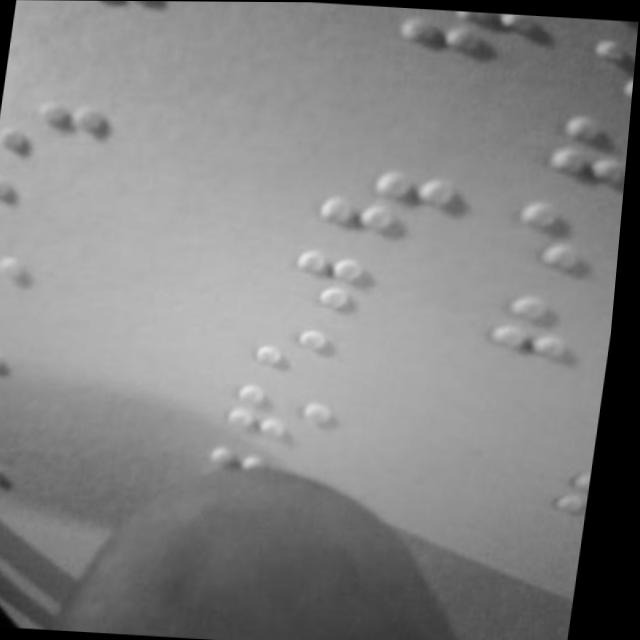braiile: (311, 158, 463, 240), (284, 242, 418, 318), (379, 5, 536, 69), (223, 377, 366, 447), (503, 197, 626, 278), (252, 314, 386, 383), (0, 96, 122, 168), (0, 169, 90, 231), (0, 250, 78, 316), (0, 315, 68, 378)
